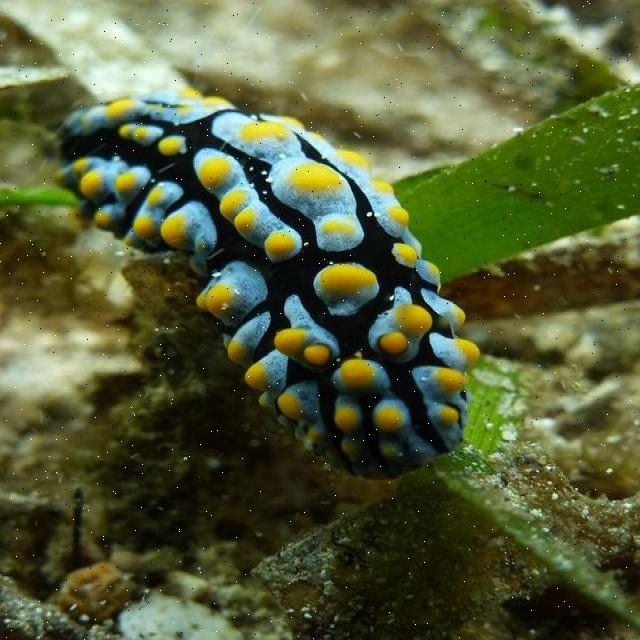reefs: (49, 82, 481, 484)
